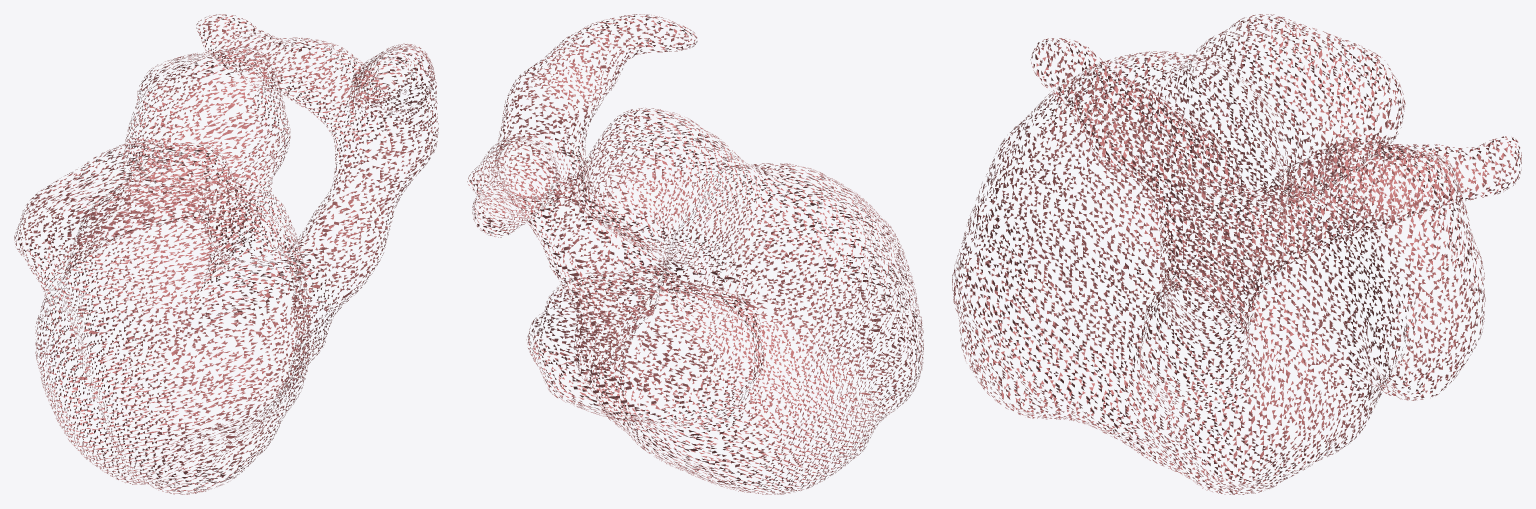
File: heart.glb
3 views of the same model, side by side, from view 1: azimuth 30°, elevation 25°; view 2: azimuth 150°, elevation 25°; view 3: azimuth 270°, elevation 25° (orthographic). The views are drawn at different scales.
Size of the model in its own units: 117 by 116 by 115.
